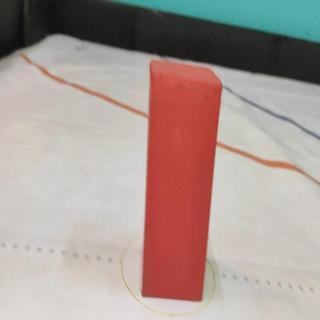redbox: (139, 58, 222, 301)
